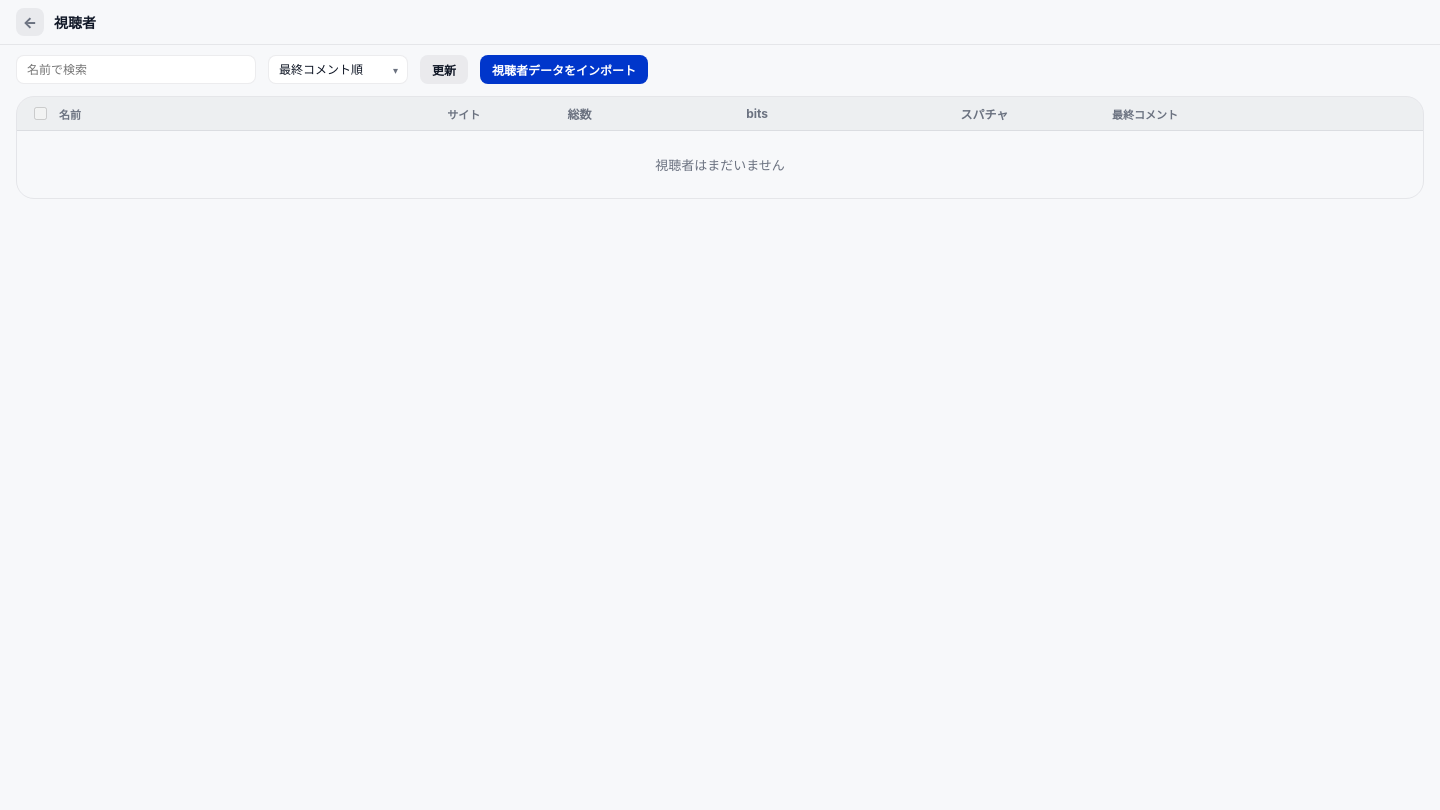
ViewersView 視聴者データ CSV のインポート（065b） › ⚠⚠ 4 件数がすべて画面に出る（skipped* が 0 でなくても必ず見える）
Expected: the text "視聴者はまだいません" is shown, [655, 157, 785, 173]
Click the button "視聴者データをインポート". click: x=564, y=70
box: [480, 55, 648, 84]
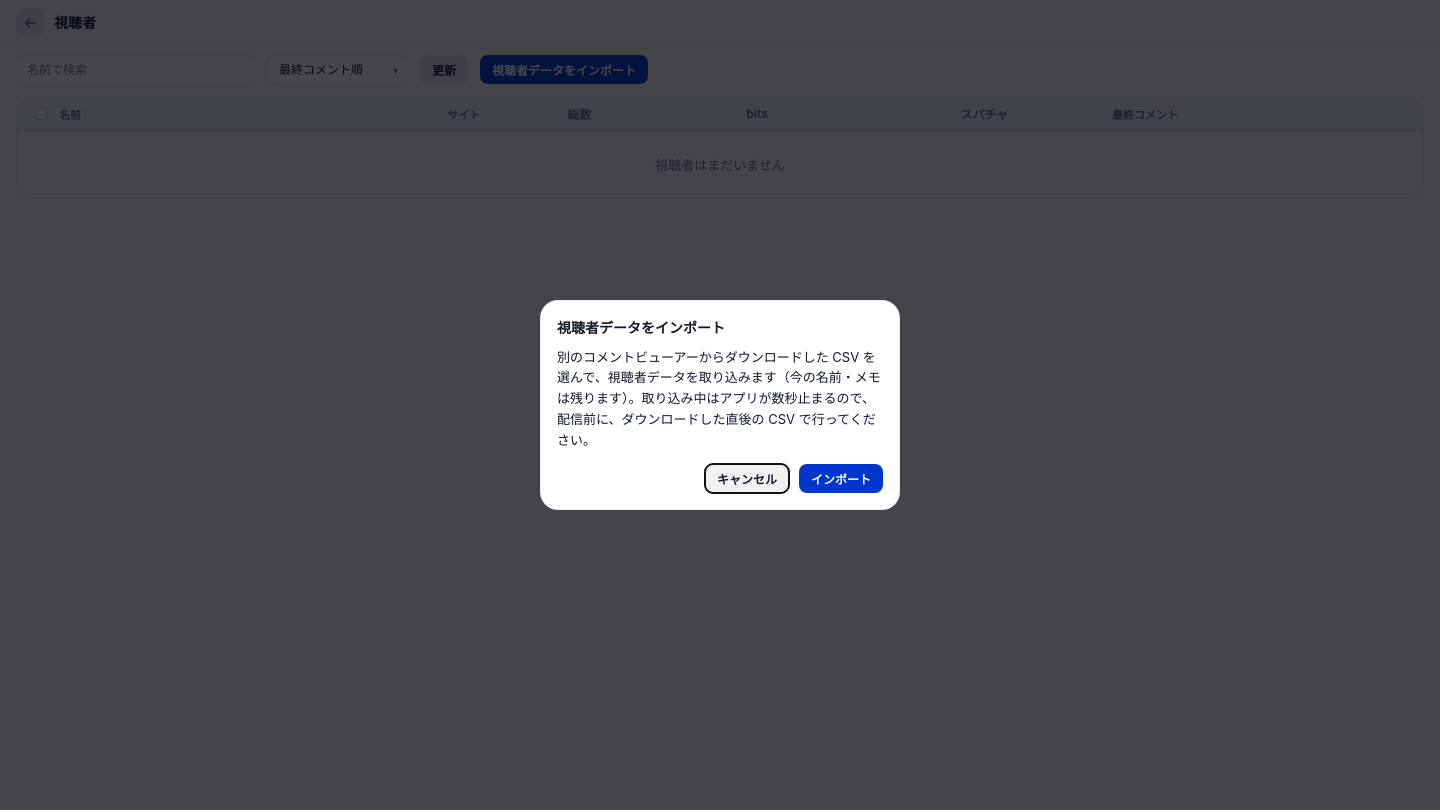
Click the button "インポート". click: x=841, y=479
box: [799, 464, 883, 494]
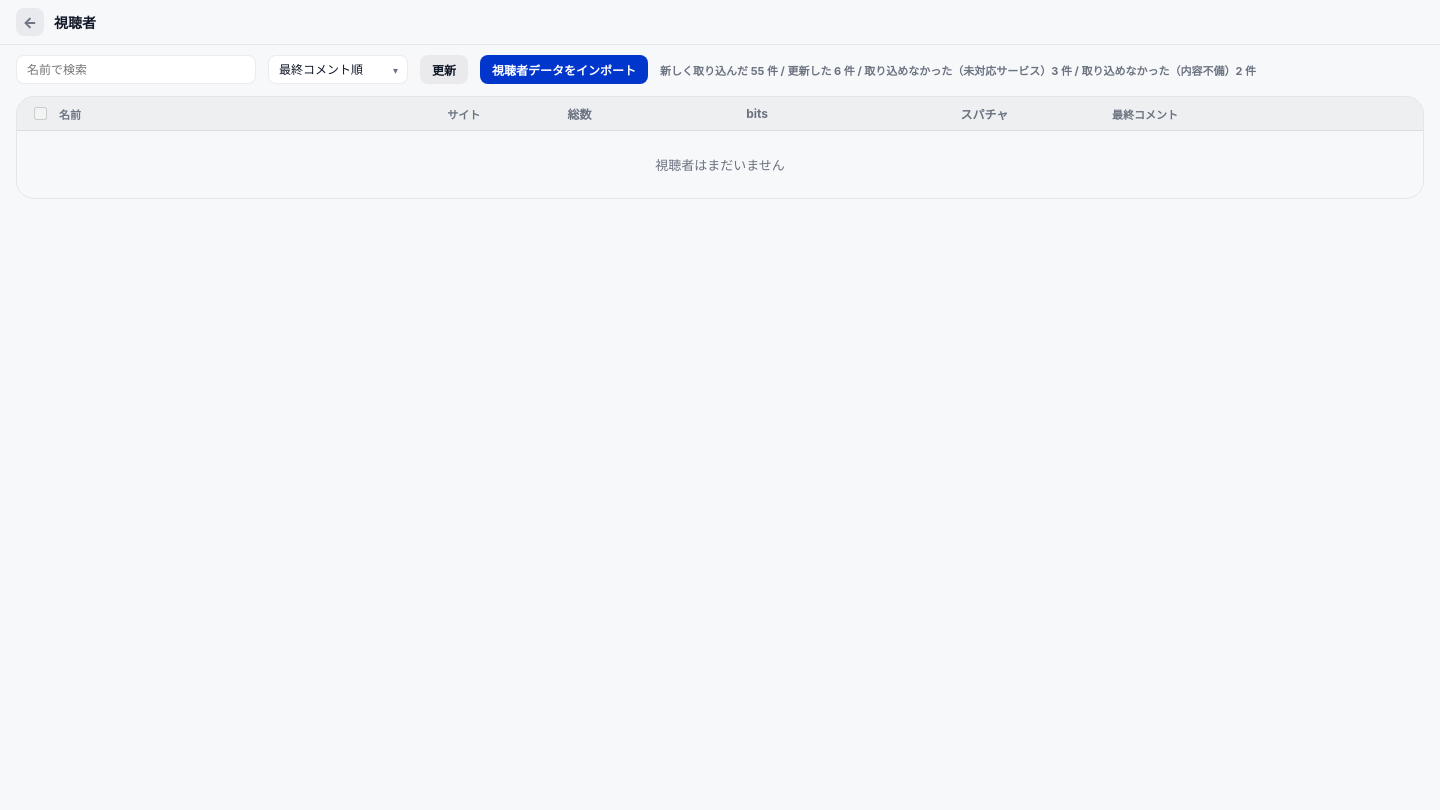
Now the text "新しく取り込んだ" shows "新しく取り込んだ 55 件", box [660, 62, 1256, 78]
Now the text "新しく取り込んだ" shows "更新した 6 件", box [660, 62, 1256, 78]
Now the text "新しく取り込んだ" shows "取り込めなかった（未対応サービス）3 件", box [660, 62, 1256, 78]
